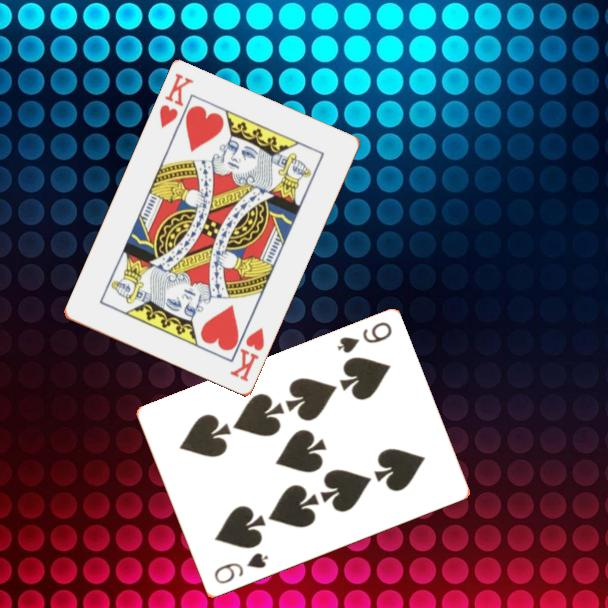h13: (226, 324, 267, 385), (156, 70, 197, 131)
s09: (333, 319, 395, 356), (210, 550, 271, 587)
